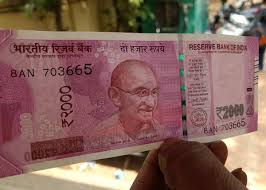twoThousand: (9, 50, 251, 125)
